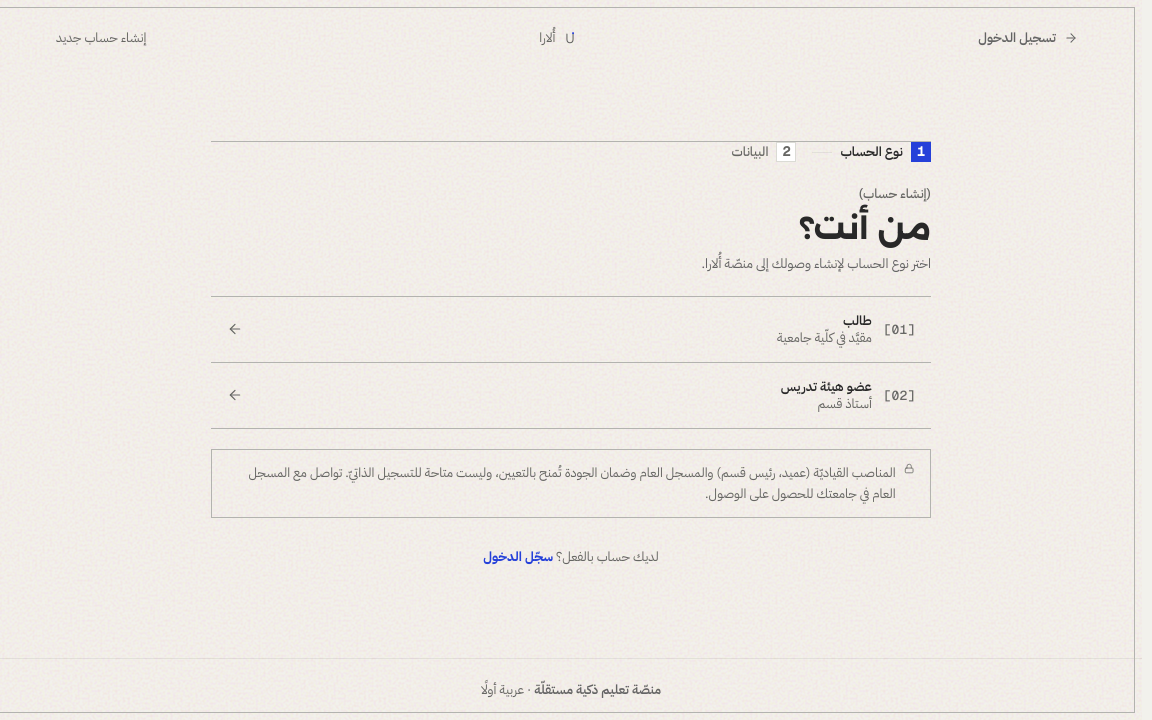
Test case: G · RegisterPage — the pending flip is announced (AuthPage parity) › idle state mounts neither the busy attributes nor the mirror
Click the button "[01] طالب مقيَّد في كلّية جامعية".
click(899, 329)  # box [211,297,931,362]
(page scrolled)
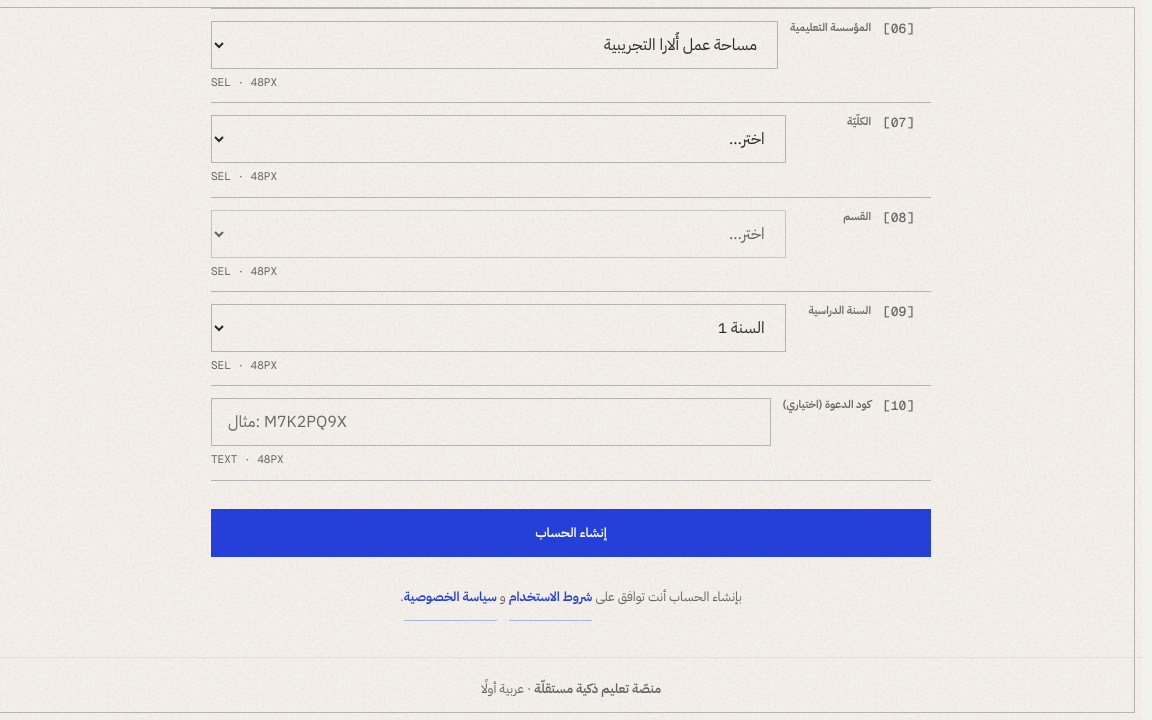
Now the button "إنشاء الحساب إنشاء الحساب" is enabled, box [211,509,931,557]
